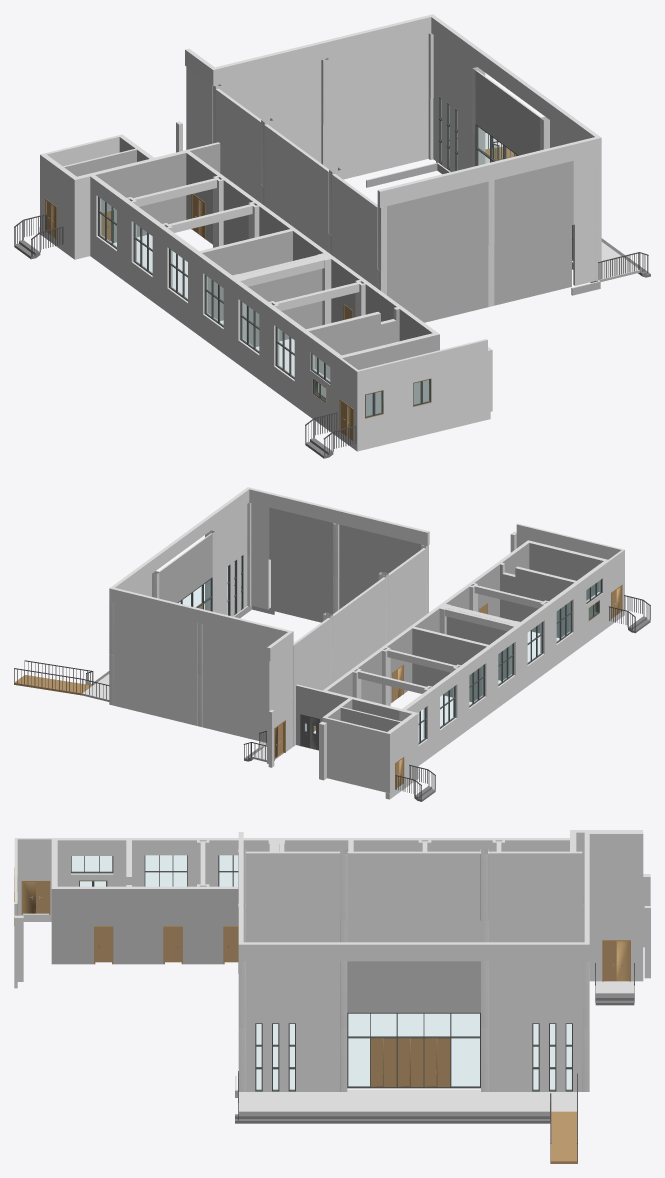
3 renders of one model, top to bottom at view 1: azimuth 30°, elevation 25°; view 2: azimuth 150°, elevation 25°; view 3: azimuth 270°, elevation 25°, orthographic. The views are drawn at different scales.
Parts seen in each view (by area): view 1: 矩形钢管柱_400__2231934__1; view 2: 矩形钢管柱_400__2231934__1; view 3: 矩形钢管柱_400__2231934__1.
Boxes of the visible parts, bbox=[...] form: 矩形钢管柱_400__2231934__1: bbox=[14, 14, 650, 458]; 矩形钢管柱_400__2231934__1: bbox=[14, 487, 650, 801]; 矩形钢管柱_400__2231934__1: bbox=[14, 830, 650, 1163].
Size of the model in its own units: 33900 by 9401 by 34455.
